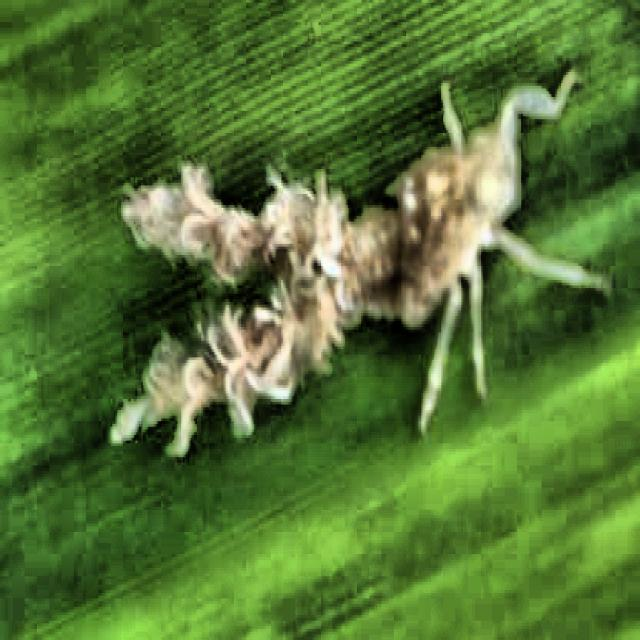Pyrilla-perpusilla: (85, 32, 618, 490)
